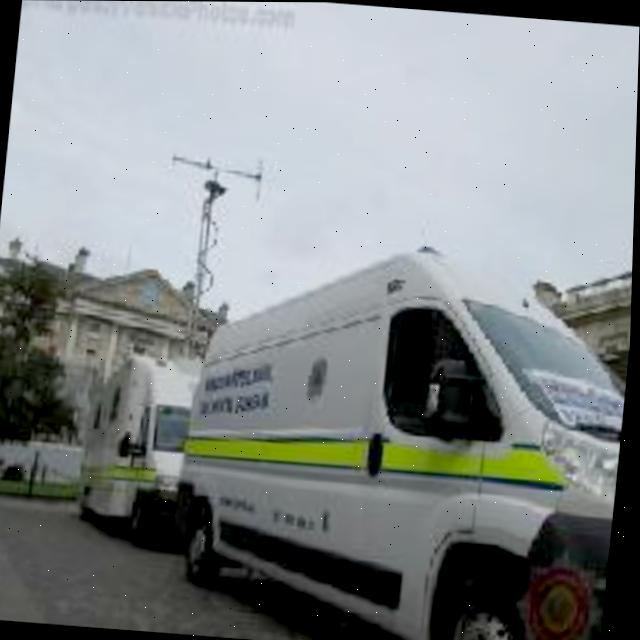emergency: (135, 253, 625, 640), (67, 330, 203, 525)
